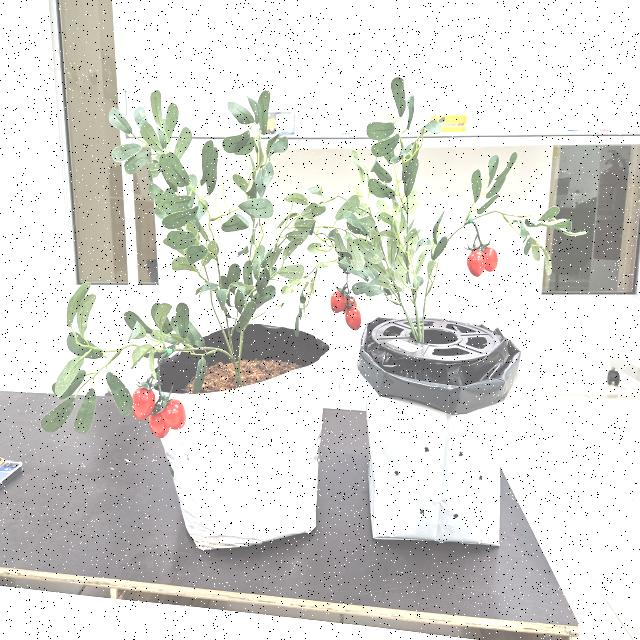Soilbag: (157, 324, 330, 551), (356, 320, 521, 548)
Tomato: (125, 385, 188, 443), (328, 287, 362, 331), (466, 239, 498, 277)
plant: (40, 78, 521, 439)
